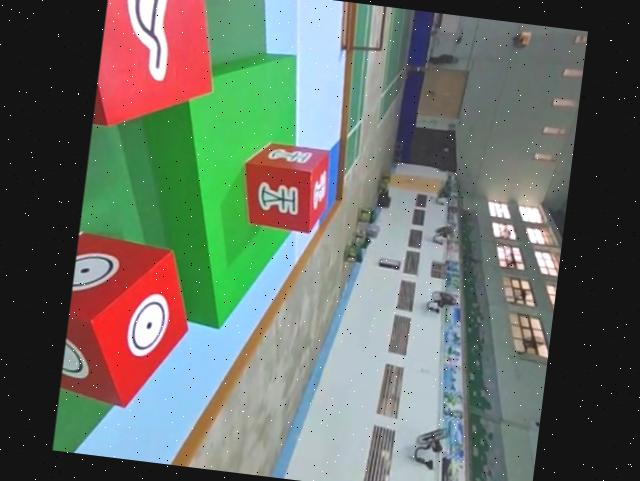R2 Real: (58, 226, 201, 416), (91, 0, 234, 140), (234, 140, 337, 235)
